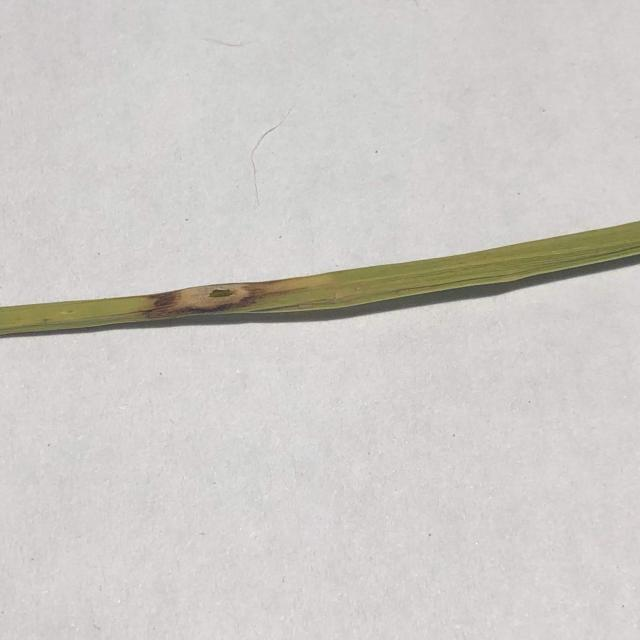Blast: (210, 287, 248, 311), (170, 292, 204, 312)
